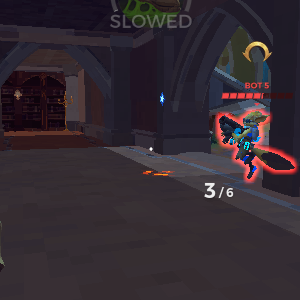model: (218, 104, 284, 185)
